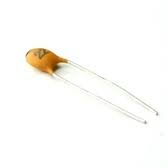ceramic capacitor: (15, 29, 99, 107)
